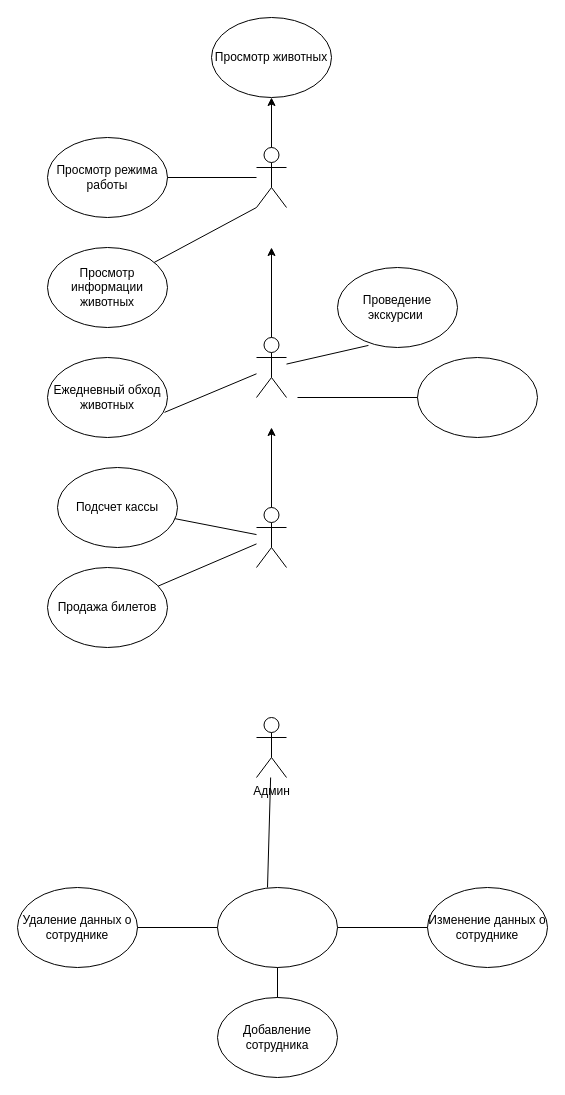
This 565x1095 diagram has some shape labels left out. The box of each missing label's shape, as (x1, y1, x2, y2) in pixels:
Заполнение информации о животных: (416, 356, 538, 438)
Кассир: (256, 506, 286, 568)
Клиент: (256, 146, 286, 208)
Сотрудник: (256, 336, 286, 398)
Управление рабочим персоналом: (216, 886, 338, 968)
